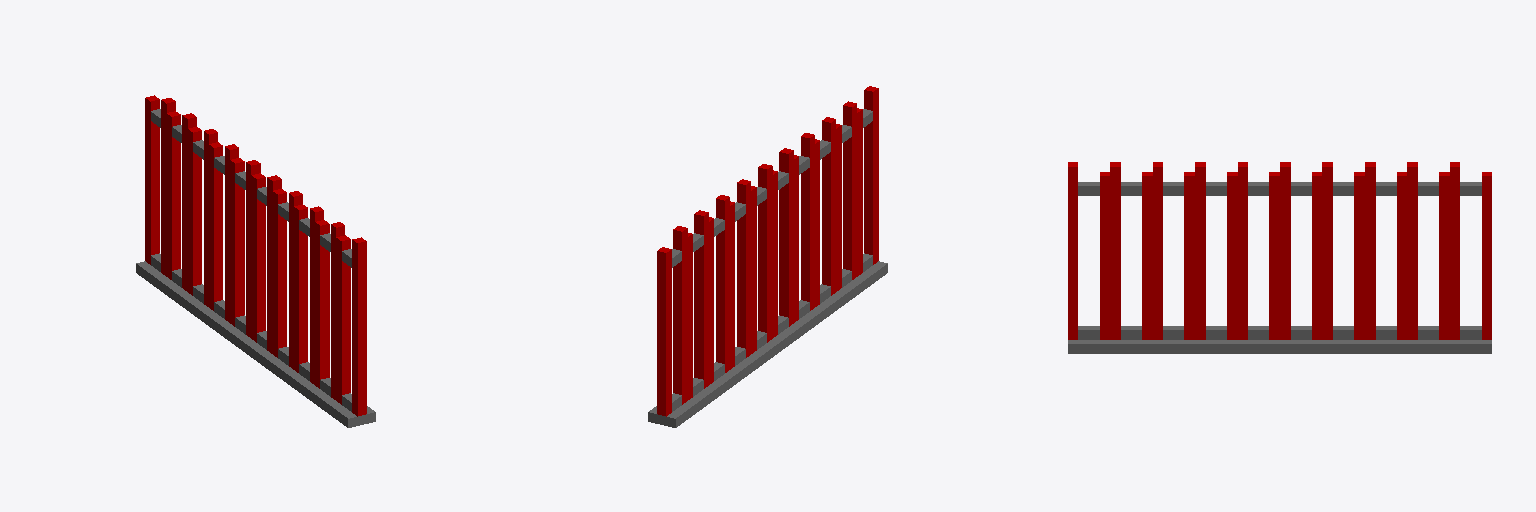
3 renders of one model, left to right at view 1: azimuth 30°, elevation 25°; view 2: azimuth 150°, elevation 25°; view 3: azimuth 270°, elevation 25°, orthographic.
Visible parts, largest first — view 1: Zabor_5; view 2: Zabor_5; view 3: Zabor_5.
Part boxes in pixels (left/top/right/bottom): Zabor_5: left=136, top=95, right=375, bottom=427; Zabor_5: left=648, top=86, right=887, bottom=427; Zabor_5: left=1068, top=162, right=1491, bottom=353.
Bounding box in the file's own units: 0.3 × 1.9 × 4.
1 materials, 1 textured.